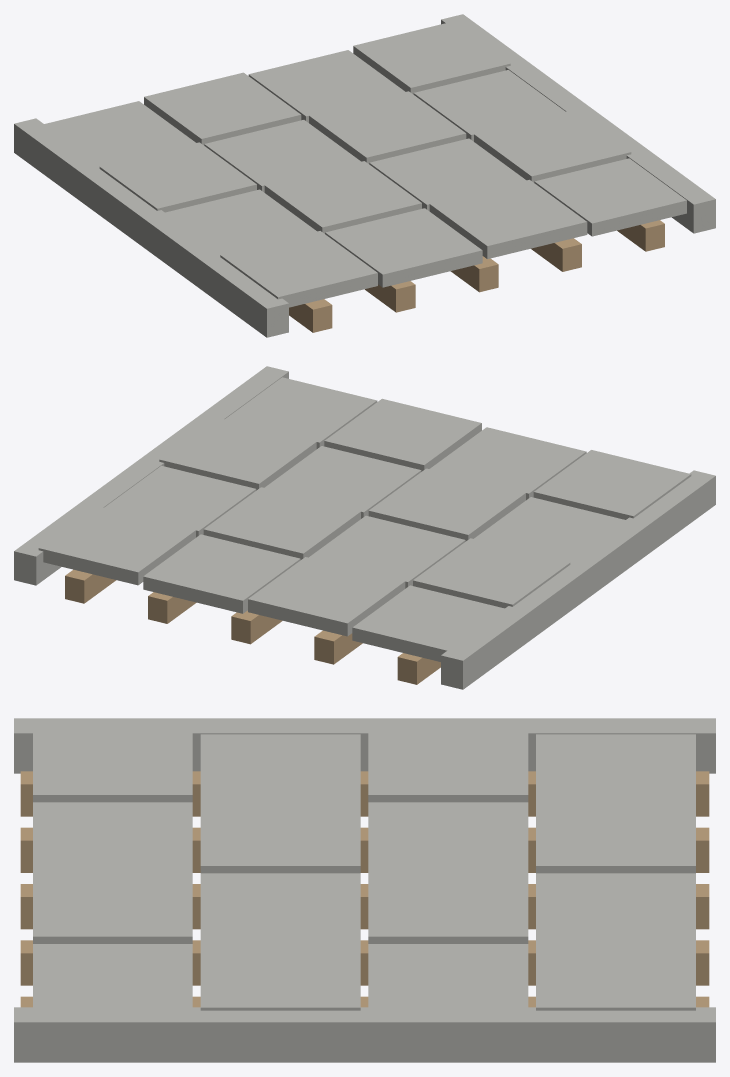
File: wipe-day-survival-island-stone-roof-4d86327d__27500.glb
3 views of the same model, one above another, from view 1: azimuth 30°, elevation 25°; view 2: azimuth 150°, elevation 25°; view 3: azimuth 270°, elevation 25° (orthographic). The views are drawn at different scales.
Visible parts, largest first — view 1: stone-roof; view 2: stone-roof; view 3: stone-roof.
Part boxes in pixels (x1,y1,x2,y2): stone-roof: (14, 14, 715, 337); stone-roof: (14, 366, 715, 689); stone-roof: (14, 718, 715, 1062).
Bounding box in the file's own units: 3.24 × 0.2751 × 3.16.
